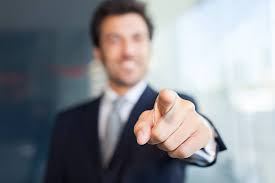hand: (136, 89, 222, 160)
